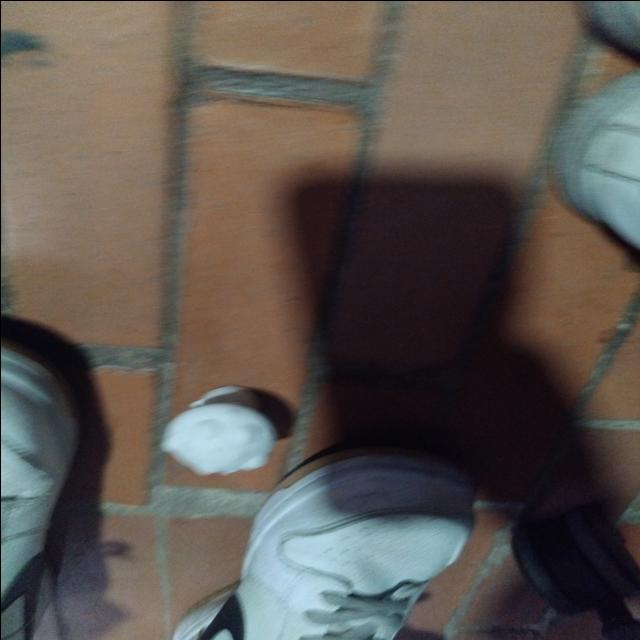Hongo: (150, 379, 286, 476)
